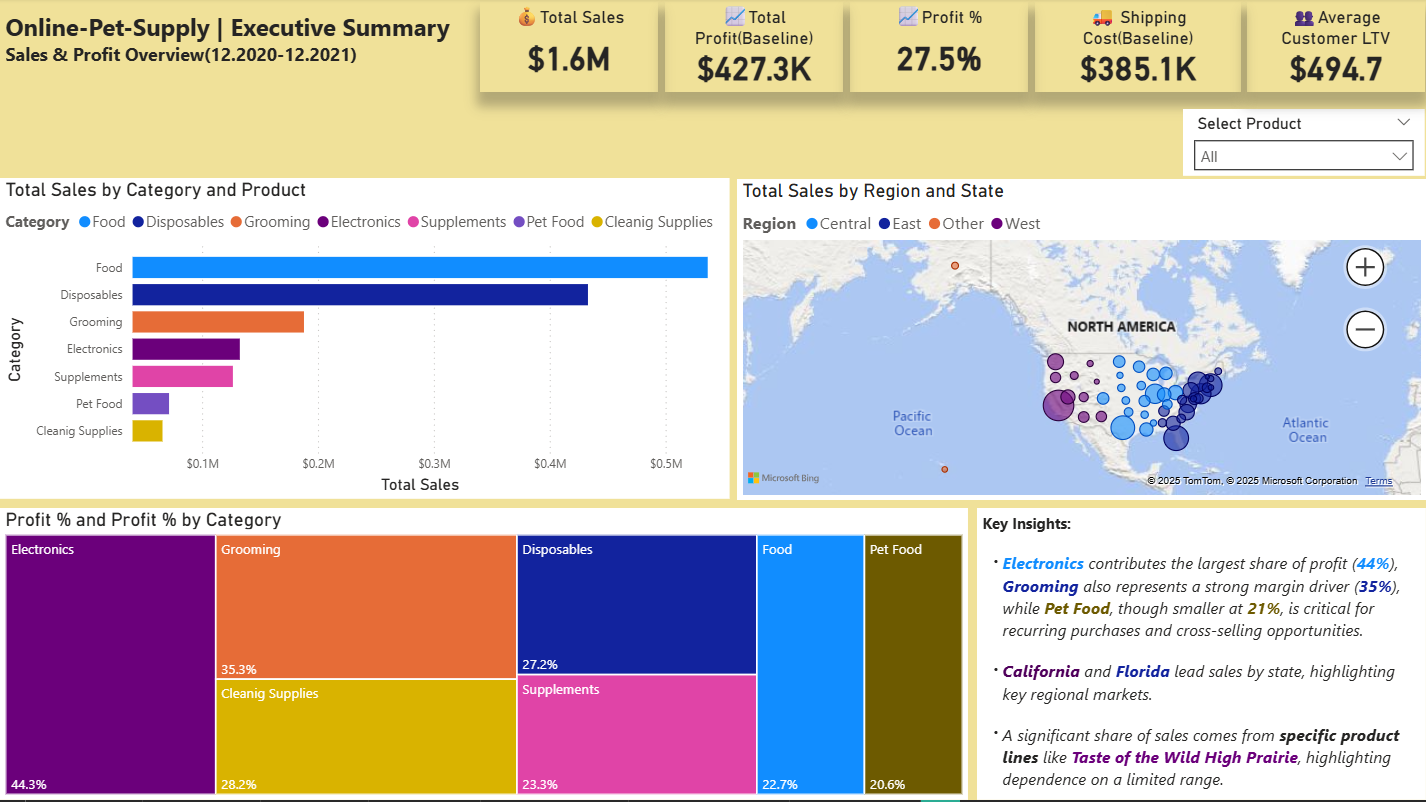

The dashboard page shown, as its layout file describes it:
{"tool":"powerbi","page":{"name":"Executive Summary","canvas":[1280,720],"ordinal":4},"visuals":[{"type":"shapeMap","title":"Total Sales by State","fields":{"Category":["state_mapping.State"],"Value":["Sum(sales.Sales)"]},"box":[26.3,466.9,585.5,252.9],"z":0},{"type":"card","fields":{"Values":["Sum(sales.Sales)"]},"box":[304.4,28.2,204.3,105],"z":1000},{"type":"card","fields":{"Values":["Sum(sales.Profit(Baseline))"]},"box":[545.6,28.2,217.9,105],"z":2000},{"type":"card","fields":{"Values":["New_Measures.Profit %"]},"box":[785.8,28.2,239.3,105],"z":3000},{"type":"card","fields":{"Values":["sales.Shipping(Baseline)"]},"box":[1051.4,28.2,211.1,112.8],"z":4000},{"type":"barChart","fields":{"Y":["Sum(sales.Sales)"],"Category":["sales.Description"],"Series":["products.Category"]},"box":[632.2,162.4,630.3,557.3],"z":5000},{"type":"slicer","fields":{"Values":["products.Description"]},"box":[10.7,36,245.1,72],"z":6000},{"type":"treemap","fields":{"Group":["products.Category","products.Description"],"Values":["New_Measures.Profit %"]},"box":[26.3,162.4,585.5,279.1],"z":7000}]}

Visuals, with their boxes in screenshot pixels (x1, y1, x2, y2), scaled from the page's 1280x720 canvas onto the 1426x802 screenshot:
"Total Sales by State" shapeMap: detection(29, 520, 682, 801)
card - Sum(sales.Sales): detection(339, 31, 567, 148)
card - Sum(sales.Profit(Baseline)): detection(608, 31, 851, 148)
card - New_Measures.Profit %: detection(875, 31, 1142, 148)
card - sales.Shipping(Baseline): detection(1171, 31, 1407, 157)
barChart - Sum(sales.Sales) x sales.Description: detection(704, 181, 1407, 801)
slicer - products.Description: detection(12, 40, 285, 120)
treemap - products.Category x products.Description: detection(29, 181, 682, 492)
